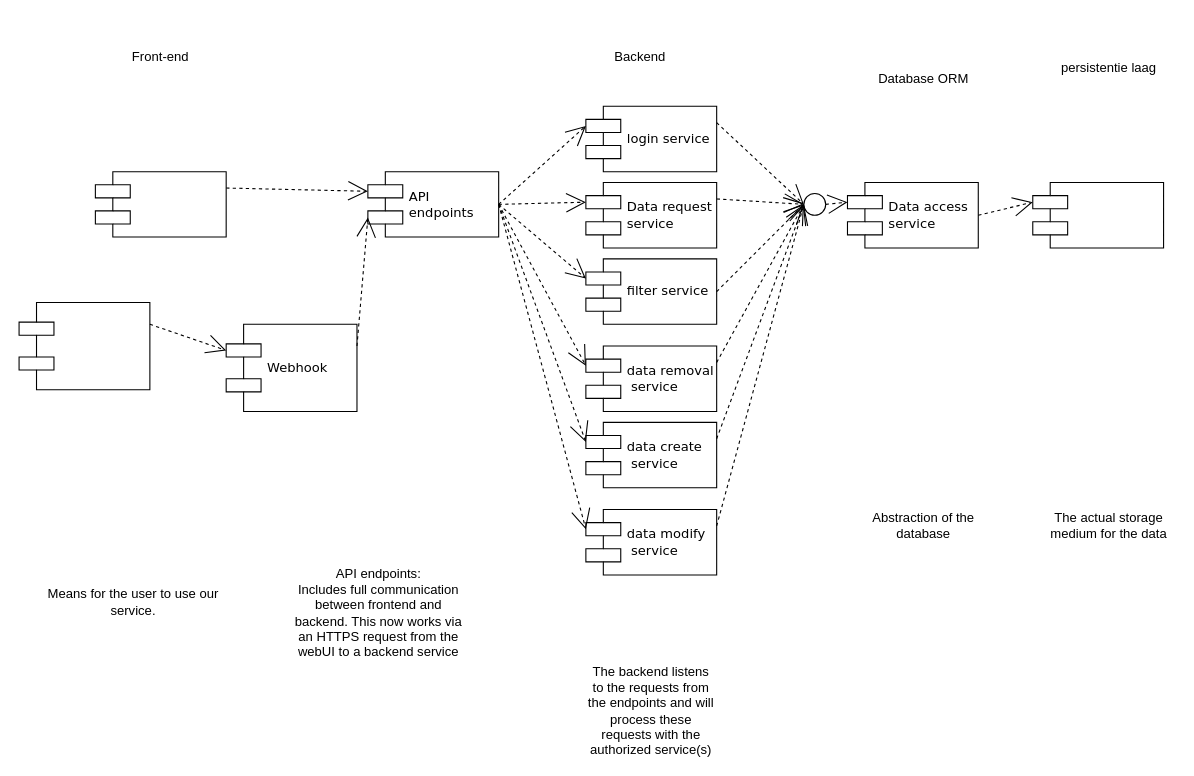
Image size: 1194x776. Some labels were removed from this diagram. The box of each missing label's shape, as (x1, y1, x2, y2) in pixels:
Data storage: (1032, 181, 1164, 248)
Forms: (18, 301, 150, 390)
WebUI: (94, 171, 226, 237)
